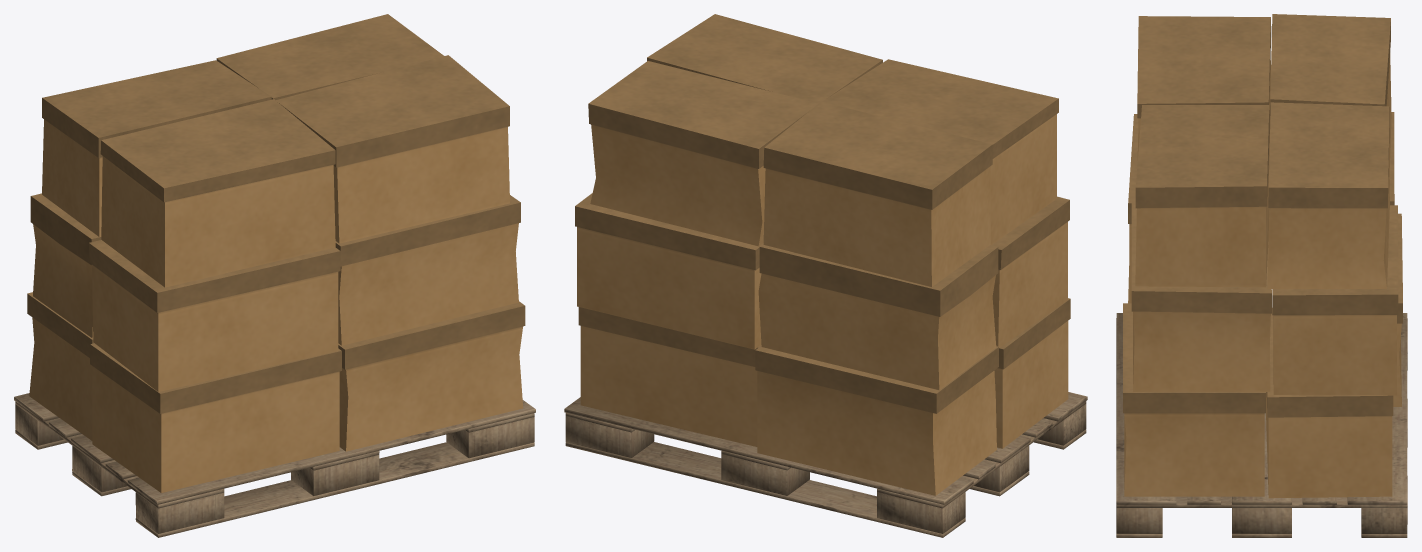
The model's file is PalletStack_boxes.fbx.
3 views of the same model, side by side, from view 1: azimuth 30°, elevation 25°; view 2: azimuth 150°, elevation 25°; view 3: azimuth 270°, elevation 25° (orthographic).
Visible parts, largest first — view 1: Pallet_LOD0; view 2: Pallet_LOD0; view 3: Pallet_LOD0.
Part boxes in pixels (<box>): Pallet_LOD0: <box>14,14,535,537</box>; Pallet_LOD0: <box>564,14,1087,537</box>; Pallet_LOD0: <box>1116,14,1407,537</box>.
Size of what is drawn, in the model's own units: 120 by 103 by 78.45.
